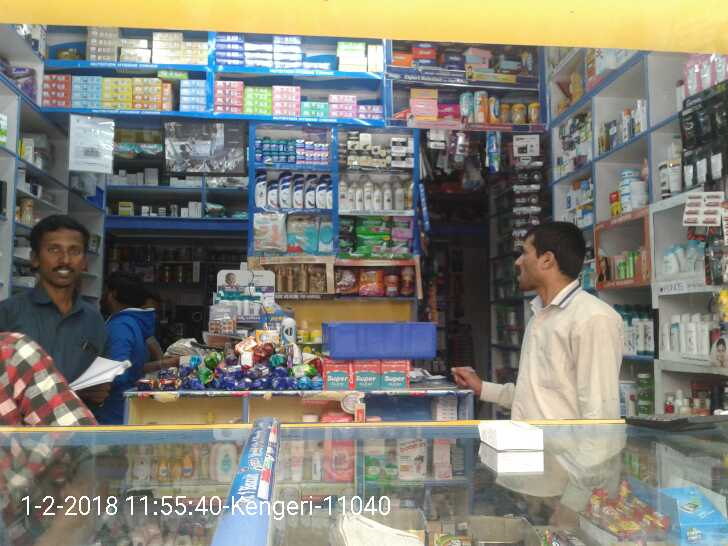beauty: (333, 176, 406, 211), (354, 125, 384, 172), (383, 134, 416, 168), (339, 125, 359, 168), (265, 173, 290, 206), (307, 181, 332, 204), (253, 173, 270, 205), (290, 176, 307, 207)
pharmacy: (291, 126, 328, 168), (250, 211, 289, 249), (286, 216, 319, 249), (245, 130, 294, 151), (351, 230, 389, 256), (349, 213, 388, 235), (253, 148, 295, 167)
